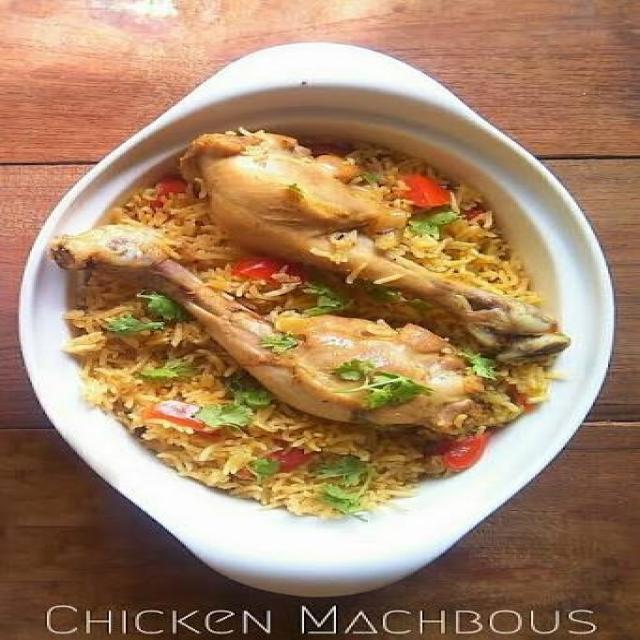Machboos: (70, 98, 603, 534)
